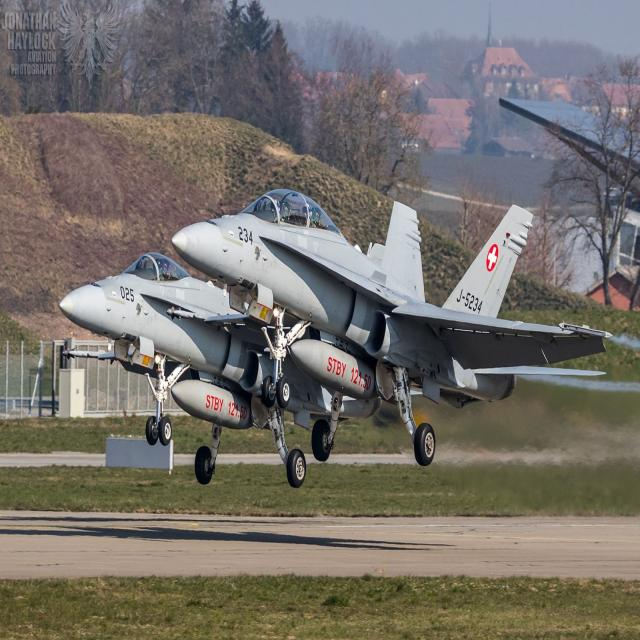MIL_Plane: (170, 188, 615, 465), (59, 250, 422, 488)
